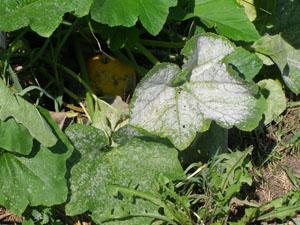Squash Powdery mildew leaf: (132, 32, 273, 144)
